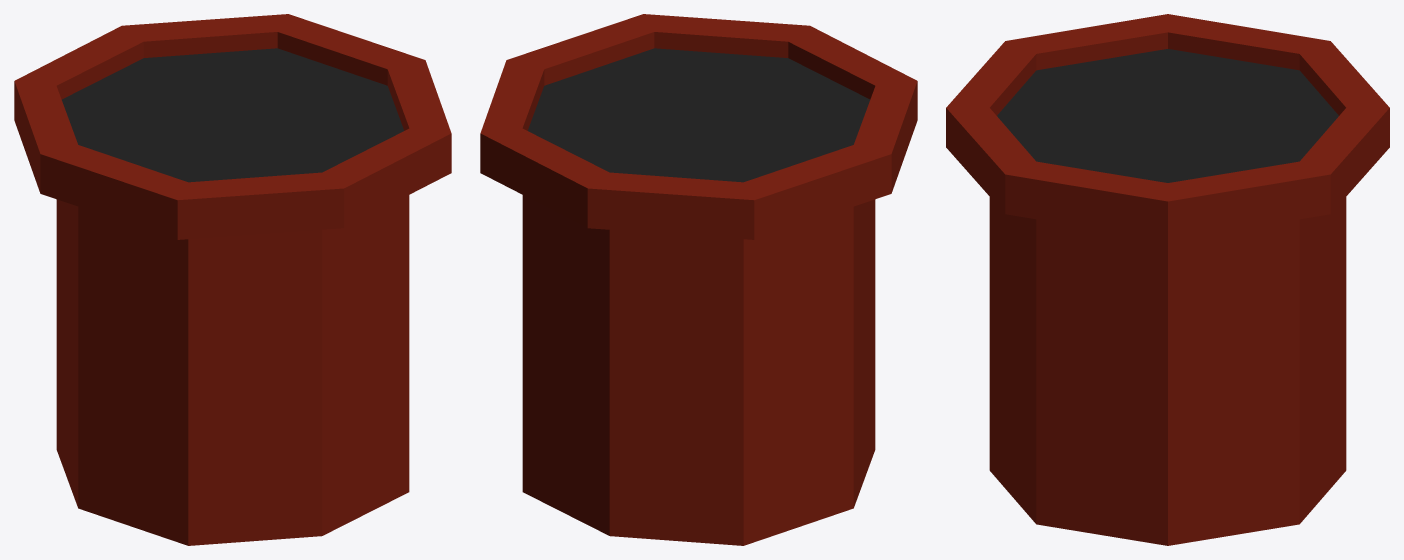
Rendered from EnemySpawner.fbx.
3 views of the same model, side by side, from view 1: azimuth 30°, elevation 25°; view 2: azimuth 150°, elevation 25°; view 3: azimuth 270°, elevation 25° (orthographic).
Visible parts, largest first — view 1: Cube; view 2: Cube; view 3: Cube.
Boxes of the visible parts, left/top/right/bottom form: Cube: left=14, top=14, right=451, bottom=545; Cube: left=480, top=14, right=917, bottom=545; Cube: left=946, top=14, right=1389, bottom=545.
Size of the model in its own units: 2.49 by 2.25 by 2.49.
1 material, 1 textured.
